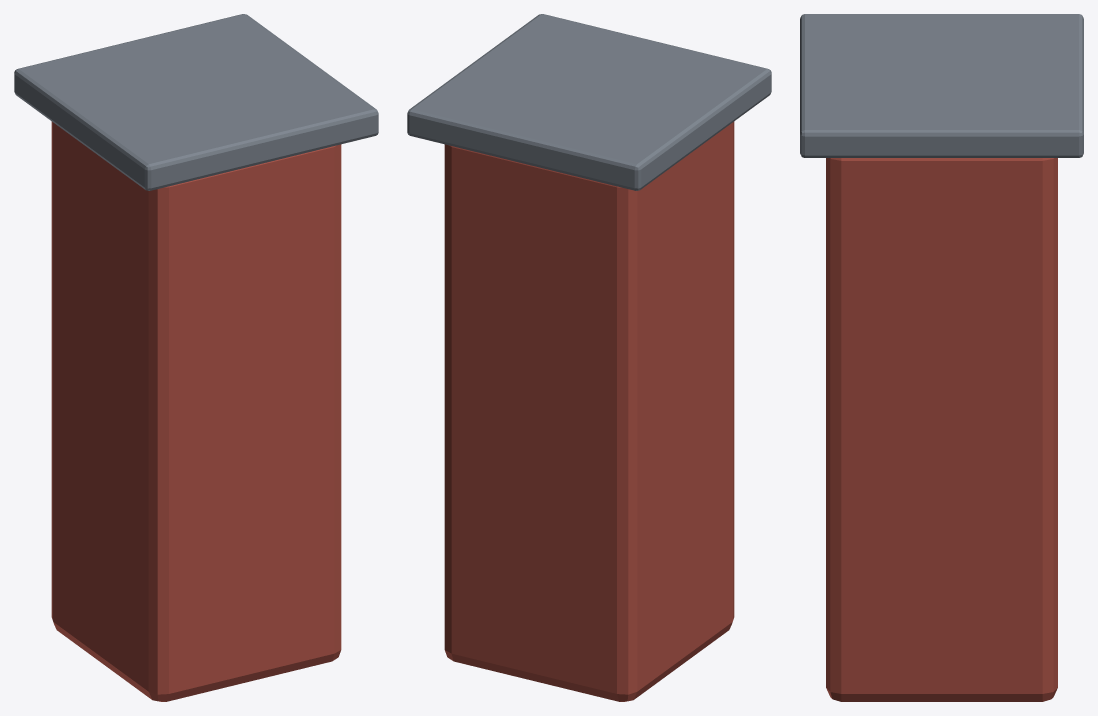
Rendered from Jumping_Chimney.fbx.
3 views of the same model, side by side, from view 1: azimuth 30°, elevation 25°; view 2: azimuth 150°, elevation 25°; view 3: azimuth 270°, elevation 25° (orthographic). The views are drawn at different scales.
Visible parts, largest first — view 1: Chimney; view 2: Chimney; view 3: Chimney.
Boxes of the visible parts, x1,y1,x2,y2 form: Chimney: [14, 14, 378, 701]; Chimney: [407, 14, 771, 701]; Chimney: [800, 14, 1083, 701].
Size of the model in its own units: 1.1 by 2.51 by 1.1.
